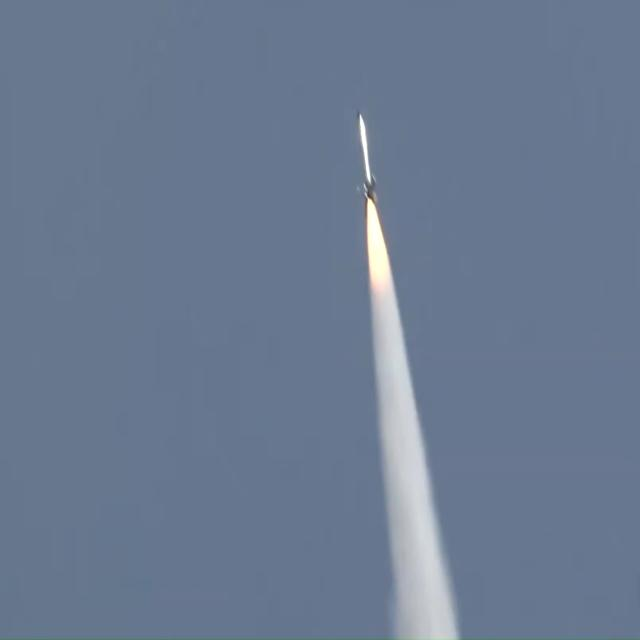Rocket: (358, 110, 380, 204)
